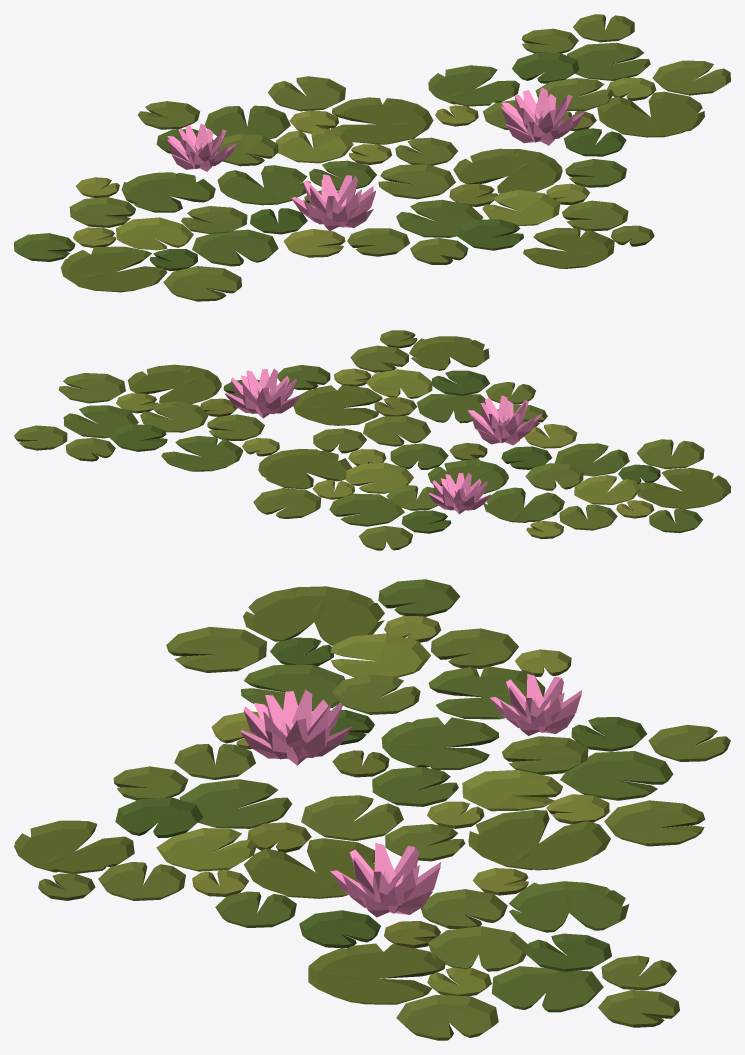
The model's file is zone1-decor3.glb.
The picture shows the model from 3 angles, top to bottom: view 1: azimuth 30°, elevation 25°; view 2: azimuth 150°, elevation 25°; view 3: azimuth 270°, elevation 25°; orthographic projection. The views are drawn at different scales.
Parts seen in each view (by area): view 1: waterplant-lily-water-pond-clump-b.001; view 2: waterplant-lily-water-pond-clump-b.001; view 3: waterplant-lily-water-pond-clump-b.001.
Boxes of the visible parts, box(x1,y1,x2,y2) form: waterplant-lily-water-pond-clump-b.001: box(14, 14, 730, 301); waterplant-lily-water-pond-clump-b.001: box(14, 330, 730, 550); waterplant-lily-water-pond-clump-b.001: box(14, 579, 730, 1040).
Size of the model in its own units: 9.37 by 0.5283 by 6.19.
3 materials, 2 textured.
